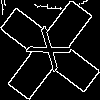X: (25, 25, 82, 79)
